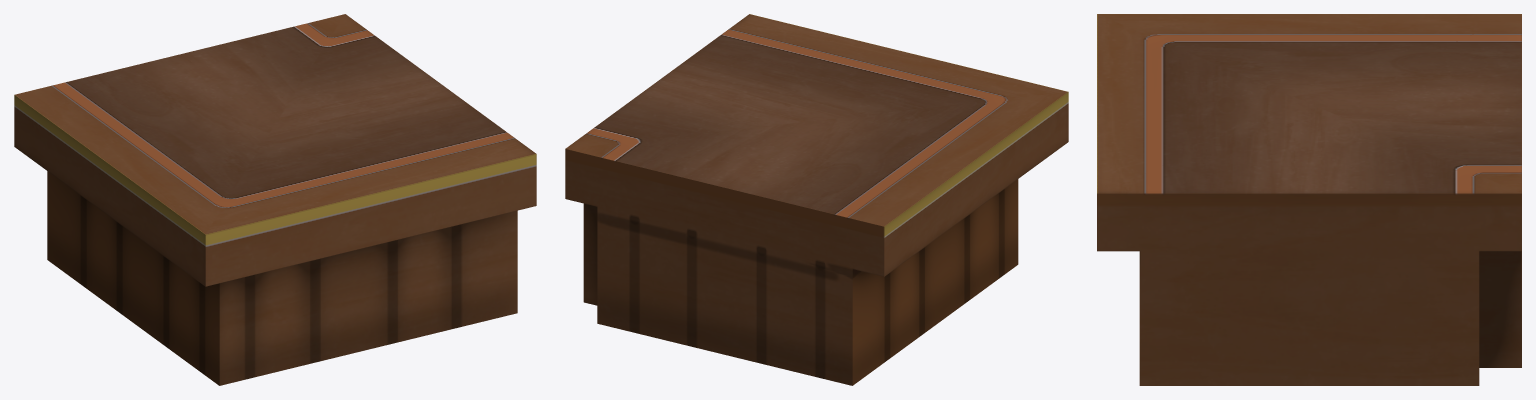
Rendered from Service Counter Table - corner_HD.fbx.
3 views of the same model, side by side, from view 1: azimuth 30°, elevation 25°; view 2: azimuth 150°, elevation 25°; view 3: azimuth 270°, elevation 25° (orthographic). The views are drawn at different scales.
Visible parts, largest first — view 1: Service_Counter_Table_corner; view 2: Service_Counter_Table_corner; view 3: Service_Counter_Table_corner.
Part boxes in pixels (x1,y1,x2,y2): Service_Counter_Table_corner: [14, 14, 536, 385]; Service_Counter_Table_corner: [565, 14, 1068, 385]; Service_Counter_Table_corner: [1097, 14, 1521, 385].
Size of the model in its own units: 1 by 0.5 by 1.
